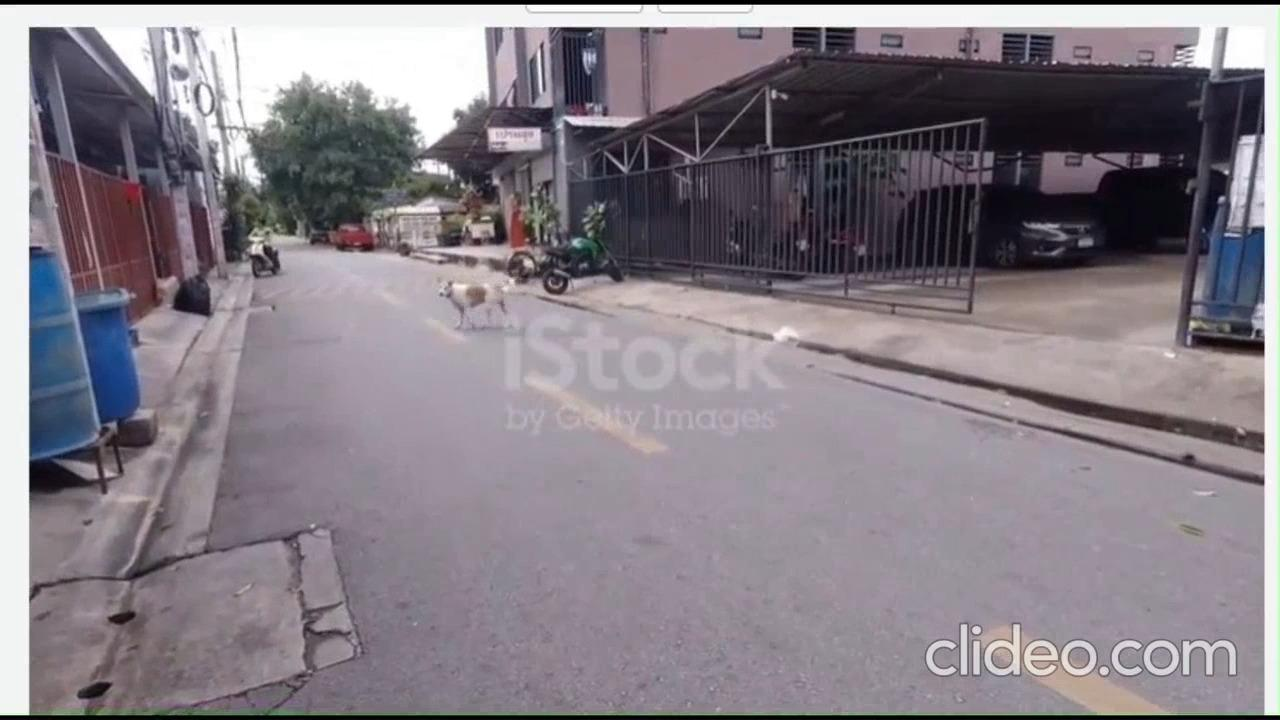dog: (436, 276, 519, 348)
